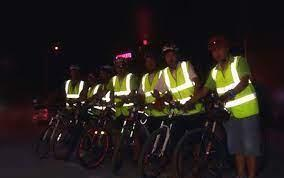Vest: (210, 61, 254, 118), (166, 63, 201, 115), (111, 72, 140, 114)
